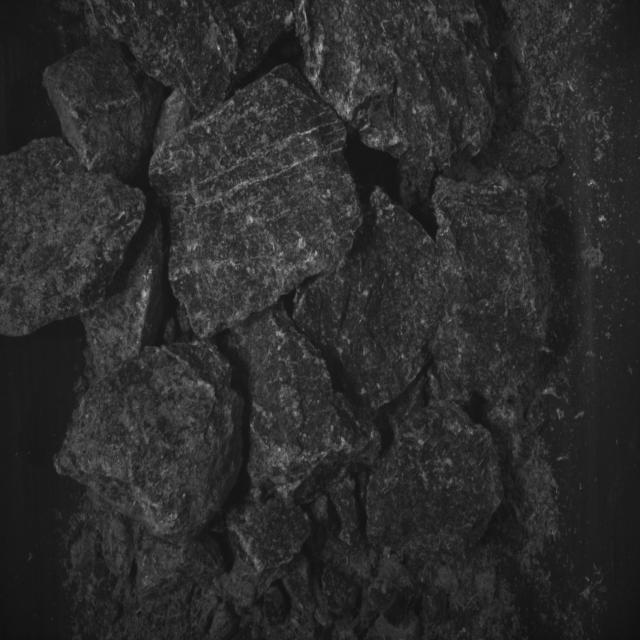Stones: (150, 66, 362, 338), (296, 1, 495, 207), (56, 344, 244, 537), (295, 189, 444, 412), (432, 173, 550, 430), (230, 308, 381, 499), (1, 139, 146, 336), (90, 1, 295, 113), (367, 401, 504, 561), (44, 45, 164, 181), (82, 208, 165, 378), (227, 499, 311, 574)
